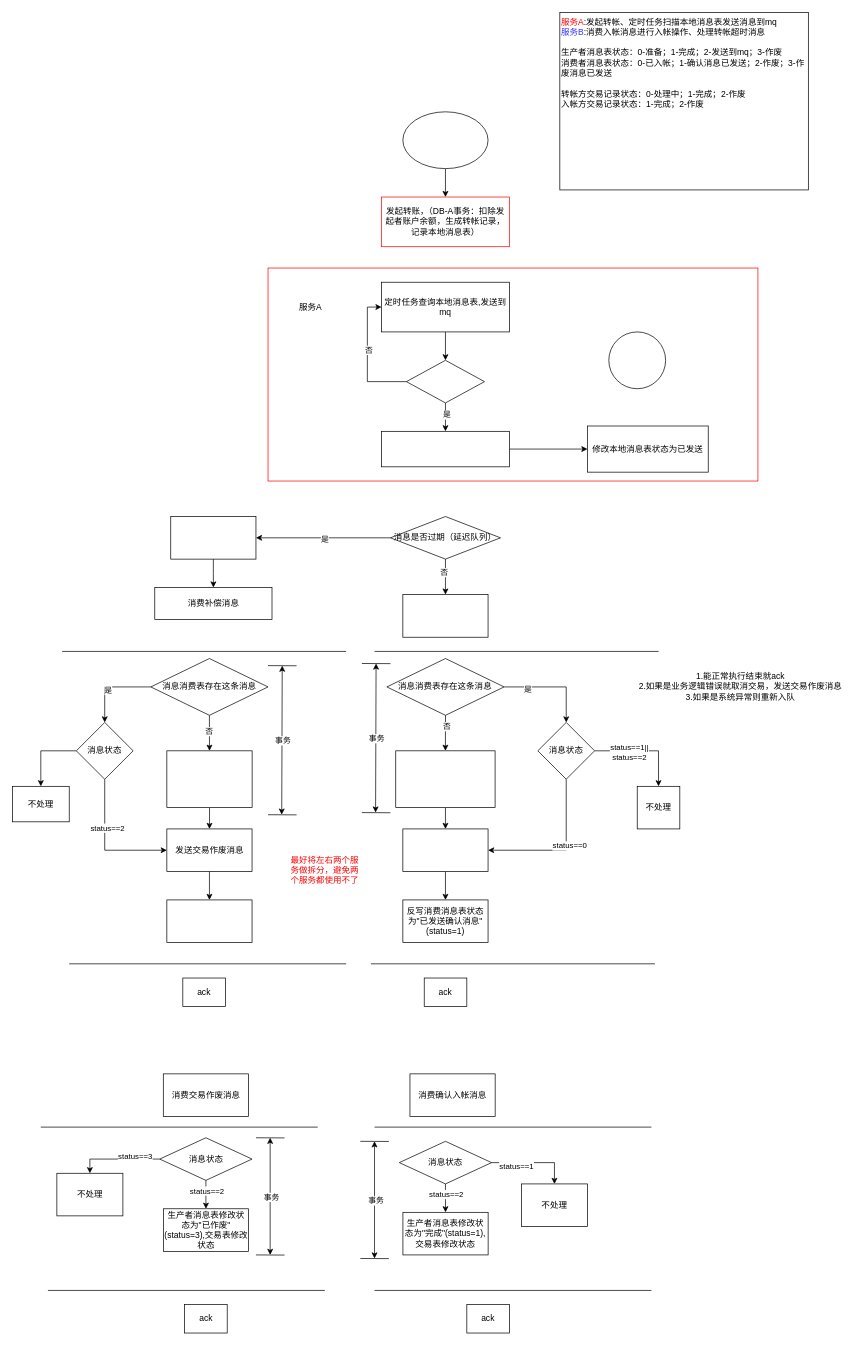
Some shapes in this 863 by 1345 pixel diagram are drawn without their labels. Here are the shapes that lost their labels. From the top down, the box of each, then its label:
(402, 111, 488, 169): 转帐开始
(406, 360, 485, 403): 发送是否成功
(381, 431, 509, 467): MQ持久化保存消息
(170, 516, 256, 559): 进入死信队列(补偿服务)
(402, 594, 488, 637): 消费入帐消息
(166, 750, 252, 808): 消息消费表插入数据，状态为“作废”(status=2)。交易表写入一行“作废"的数据
(395, 750, 495, 808): 消息消费表插入数据，状态为"已入帐"(status=0).入帐(写入消费记录表，账户余额增加)
(402, 828, 488, 872): 发送入帐确认消息
(166, 899, 252, 943): 反写消费消息表状态为"已发送作废消息"(status=3)
